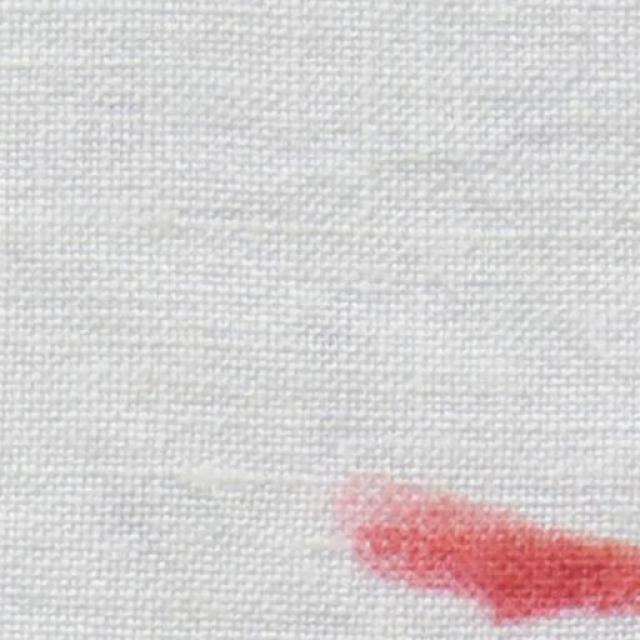Stain: (336, 478, 640, 626)
